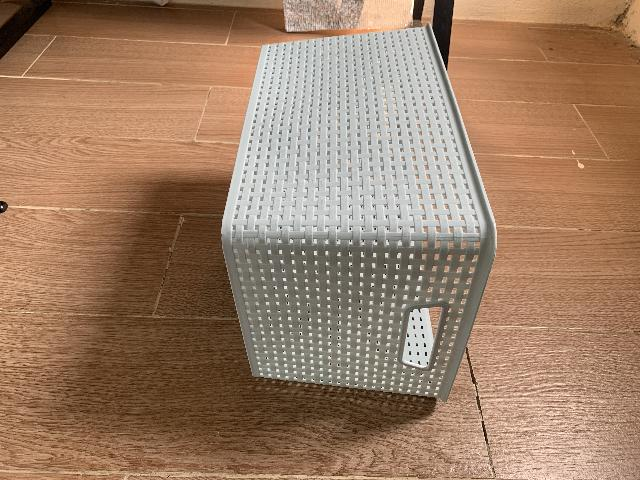cart: (220, 25, 497, 403)
